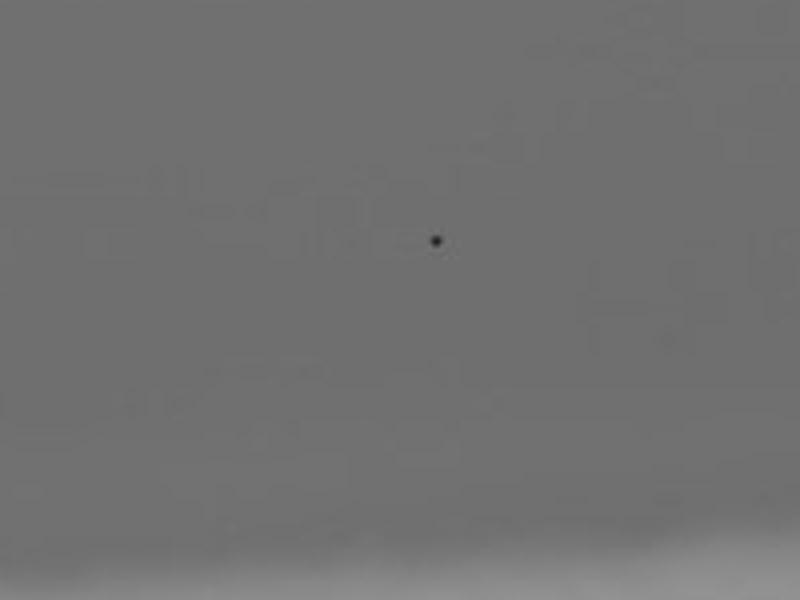defect: (425, 232, 449, 259)
